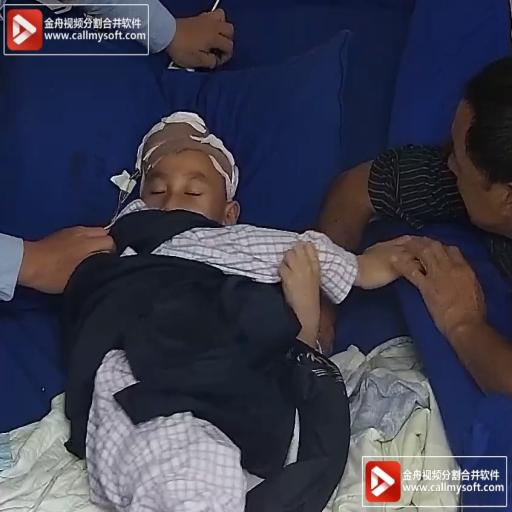Seizure: (144, 146, 250, 221)
